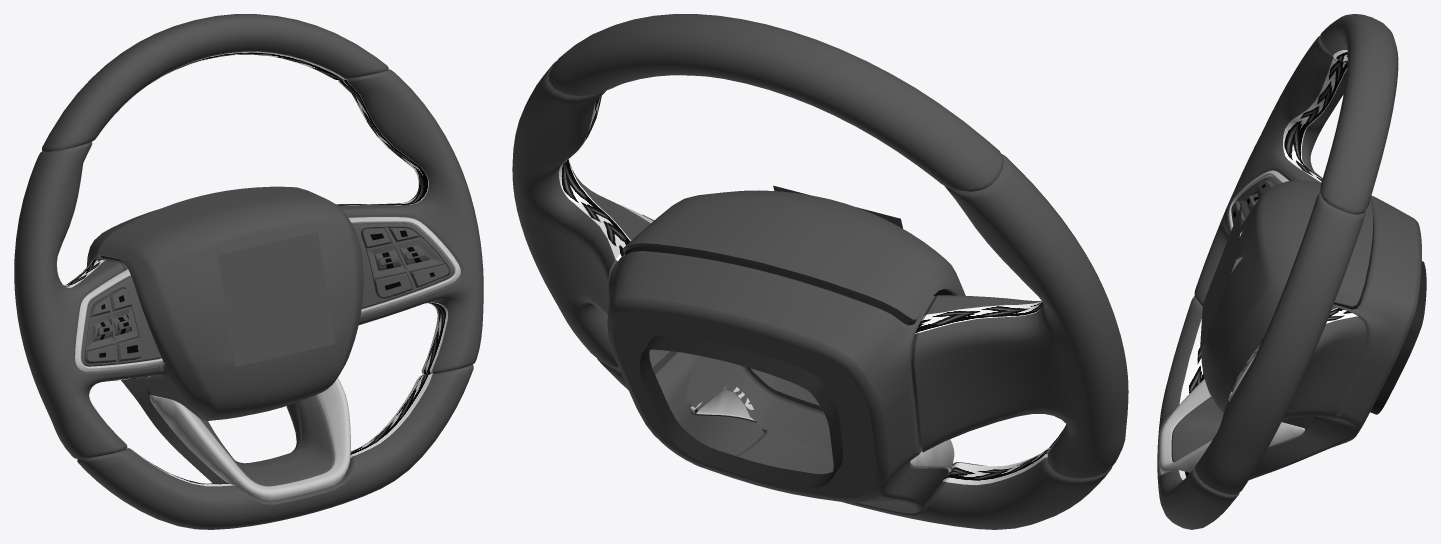
Rendered from steering.glb.
The picture shows the model from 3 angles, left to right: view 1: azimuth 30°, elevation 25°; view 2: azimuth 150°, elevation 25°; view 3: azimuth 270°, elevation 25°; orthographic projection. The views are drawn at different scales.
Parts seen in each view (by area): view 1: movsteer_1.001, Plane; view 2: movsteer_1.001; view 3: movsteer_1.001, Plane.
Part boxes in pixels (left/top/right/bottom): movsteer_1.001: left=14, top=14, right=483, bottom=529; Plane: left=217, top=232, right=335, bottom=366; movsteer_1.001: left=512, top=14, right=1128, bottom=529; movsteer_1.001: left=1157, top=14, right=1426, bottom=529; Plane: left=1199, top=203, right=1241, bottom=353.
Bounding box in the file's own units: 0.3811 × 0.3497 × 0.1905.
7 materials, 2 textured.
